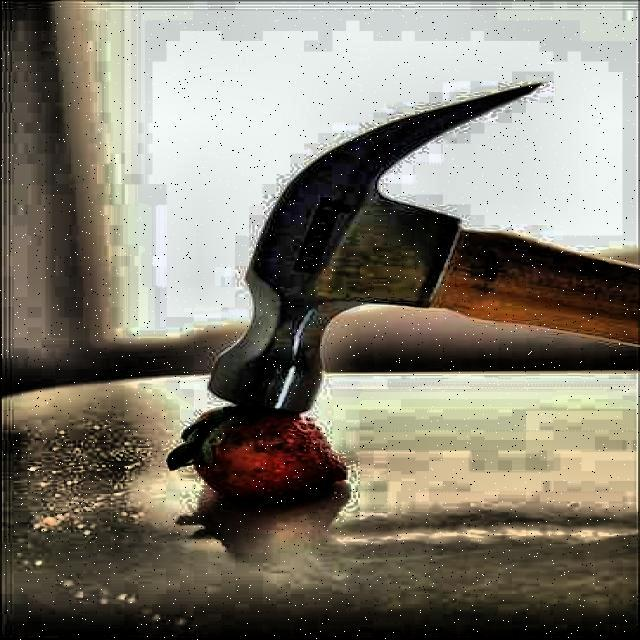hammer: (203, 75, 640, 409)
